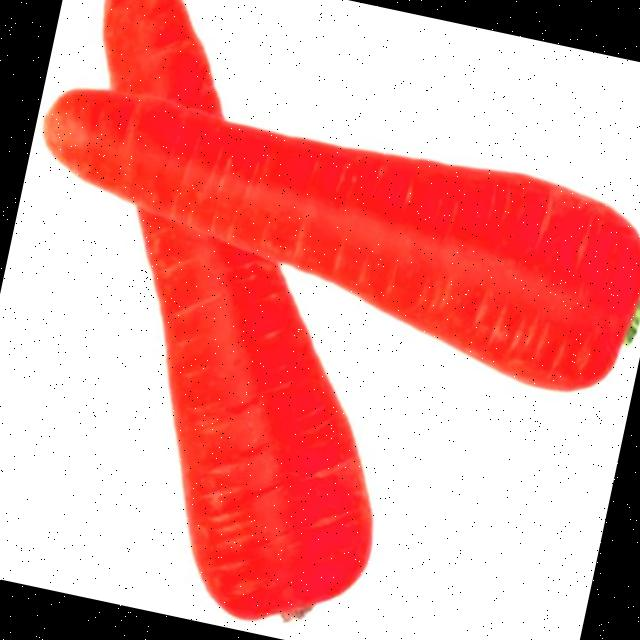carrot: (43, 89, 640, 389), (102, 0, 370, 618)
